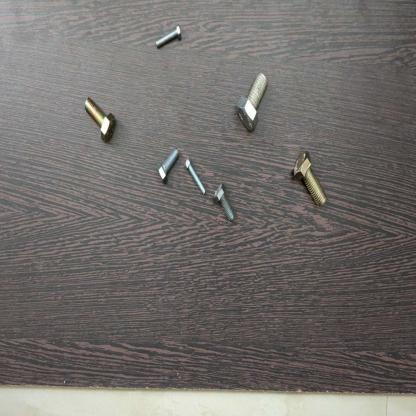Bolts: (234, 68, 273, 138), (292, 144, 327, 211), (82, 87, 118, 150), (155, 140, 182, 192), (152, 20, 184, 60), (211, 180, 236, 227), (184, 154, 208, 199)
